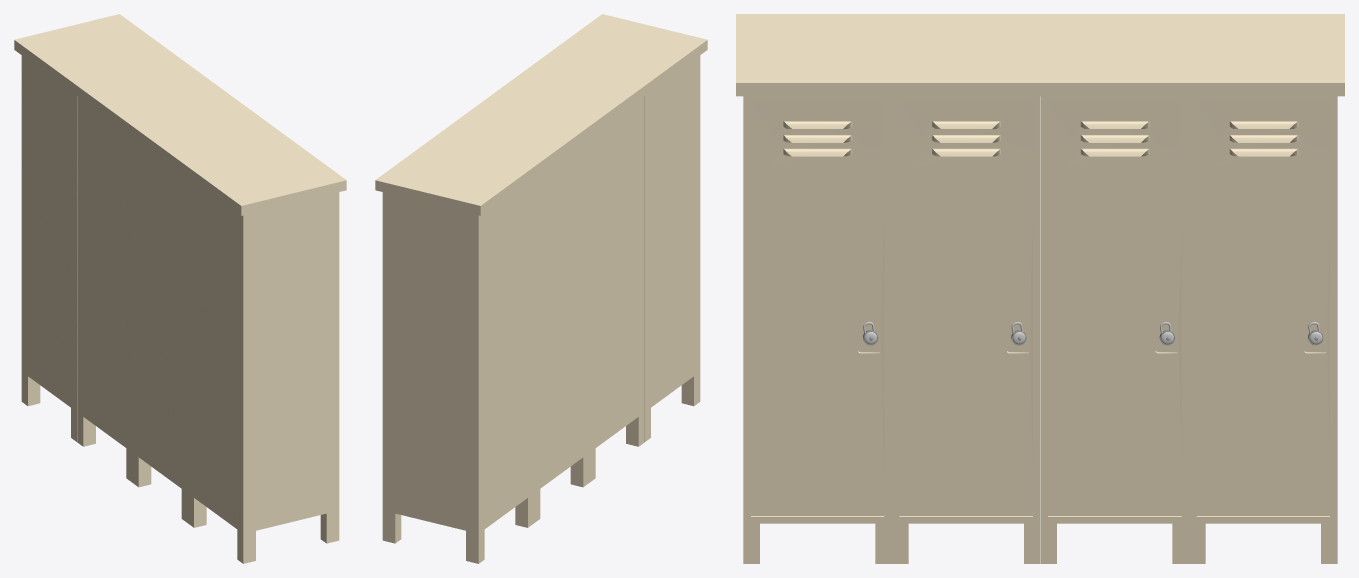
The model's file is Lockers.fbx.
3 views of the same model, side by side, from view 1: azimuth 30°, elevation 25°; view 2: azimuth 150°, elevation 25°; view 3: azimuth 270°, elevation 25° (orthographic). The views are drawn at different scales.
Visible parts, largest first — view 1: Locker; view 2: Locker; view 3: Locker, Door.001, Door.002, Door.003, Door.
Boxes of the visible parts, <box> form: Locker: <box>14,14,346,563</box>; Locker: <box>375,14,707,563</box>; Locker: <box>736,14,1344,563</box>; Door.001: <box>899,100,1032,515</box>; Door.002: <box>1048,100,1181,515</box>; Door.003: <box>1196,100,1329,515</box>; Door: <box>751,100,884,515</box>.
Bounding box in the file's own units: 821 × 720 × 220.
